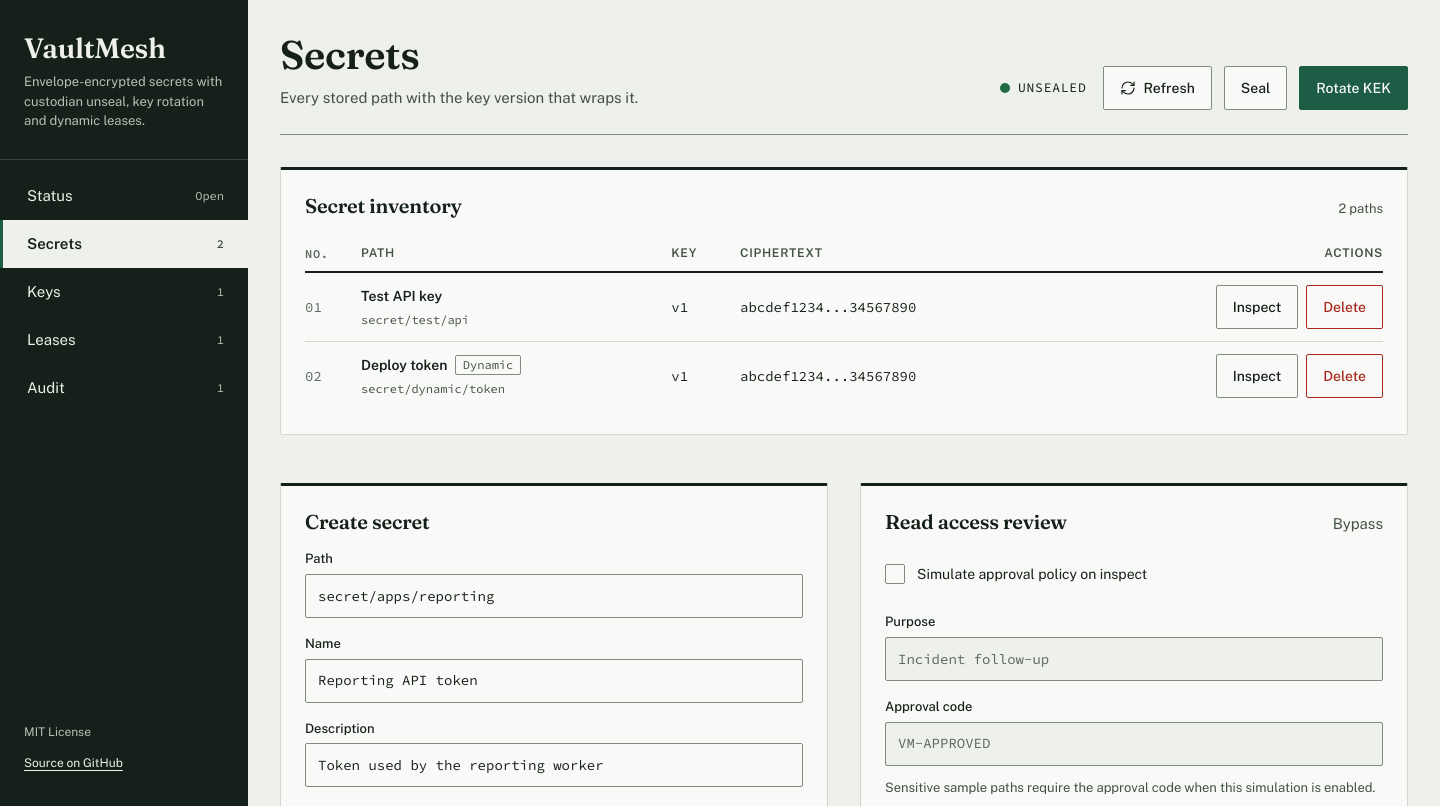
Test: App › renews and revokes the active lease
Expected: the text "Test API key" is shown, top-left (361, 288), bottom-right (442, 304)
Click the button "Leases 1" at (124, 340), box top-left (0, 316), bottom-right (248, 364)
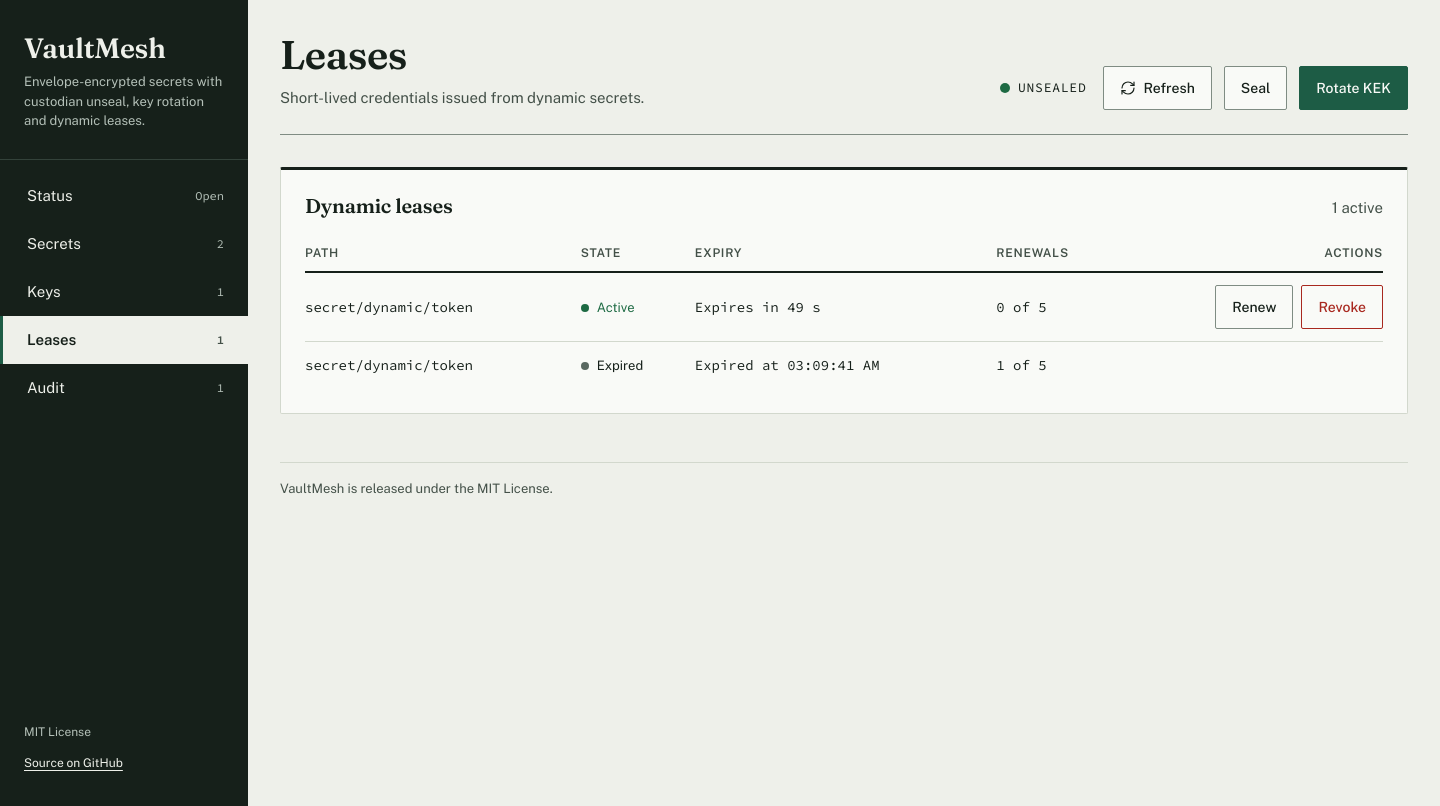
Click the button with aria-label "Renew lease for secret/dynamic/token" at (1254, 307), box top-left (1215, 285), bottom-right (1293, 329)
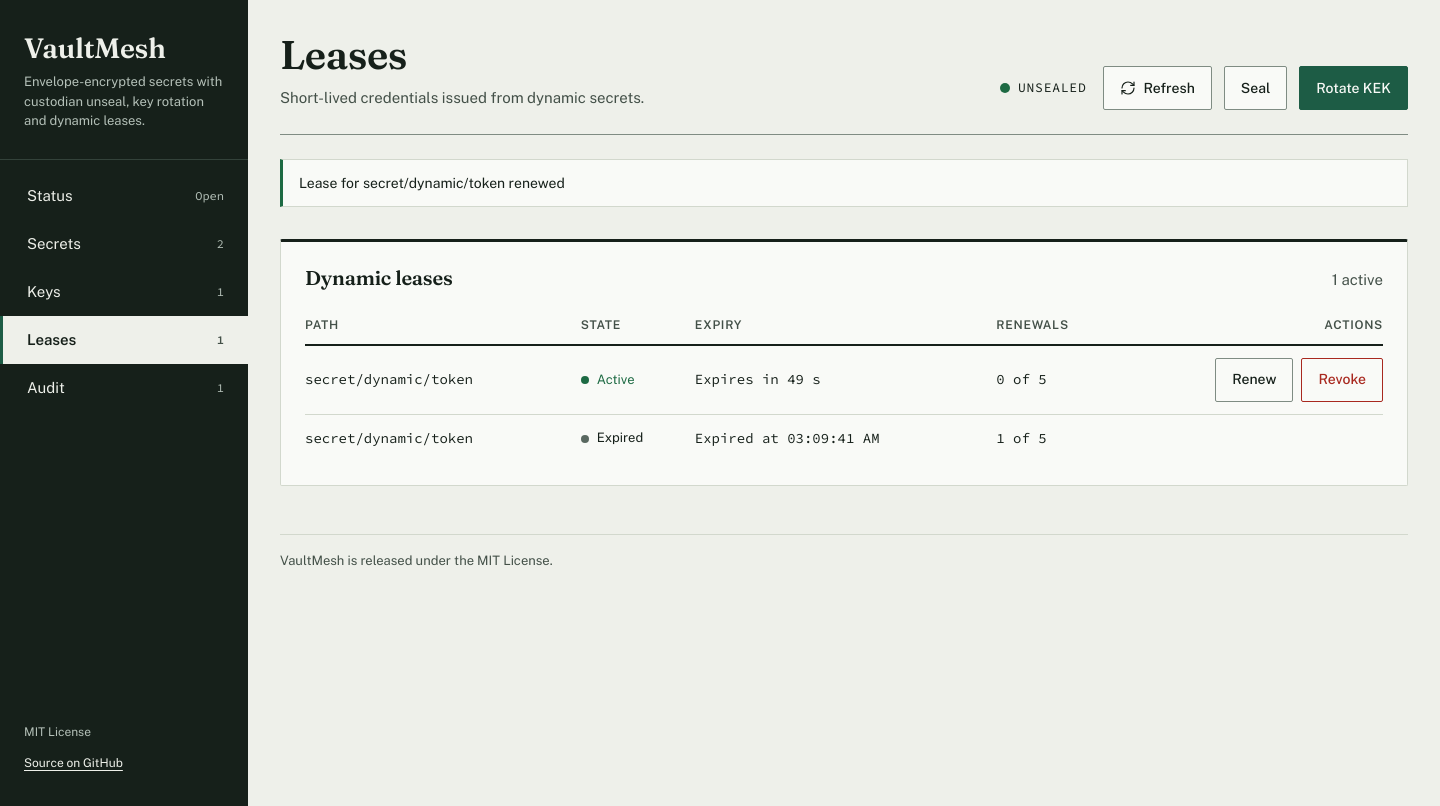
Now the text "Lease for secret/dynamic/token renewed" is shown, box top-left (280, 159), bottom-right (1408, 207)
Click the button with aria-label "Revoke lease for secret/dynamic/token" at (1342, 380), box top-left (1301, 358), bottom-right (1383, 402)
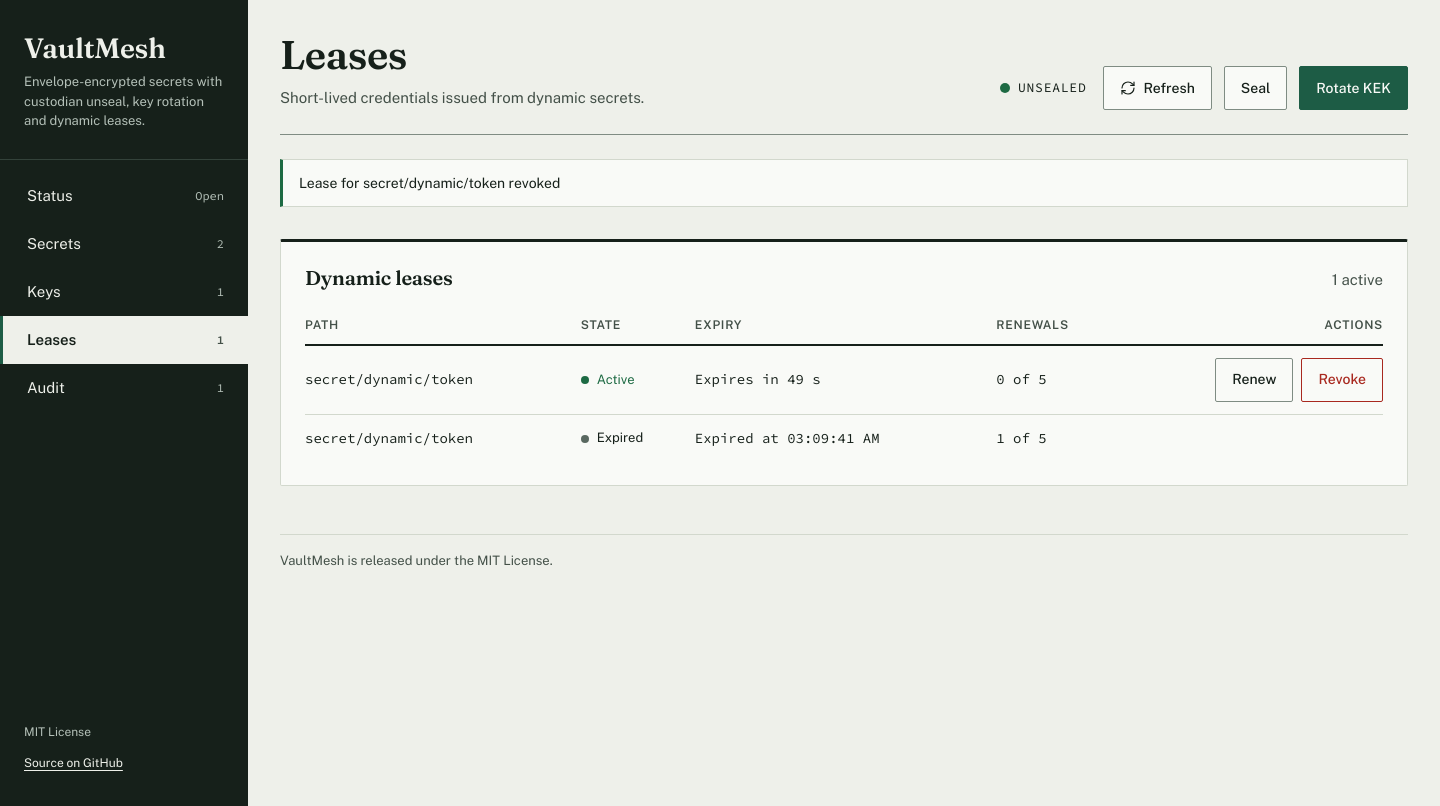
Now the text "Lease for secret/dynamic/token revoked" is shown, box top-left (280, 159), bottom-right (1408, 207)
